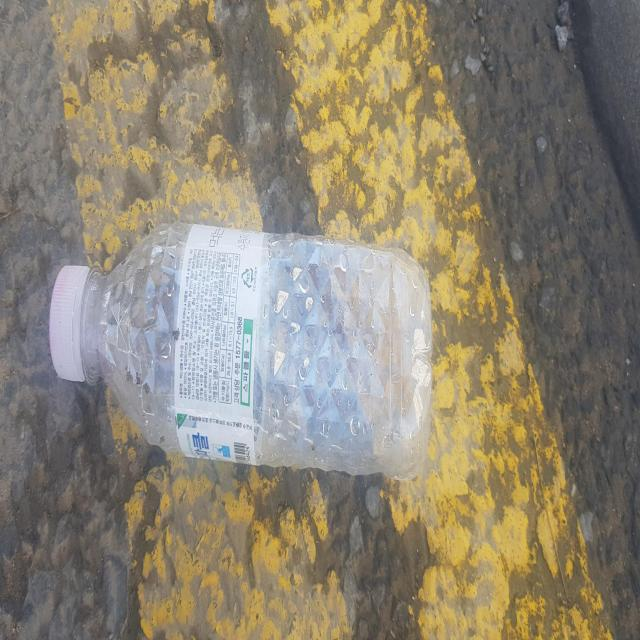plastic: (49, 222, 433, 478)
